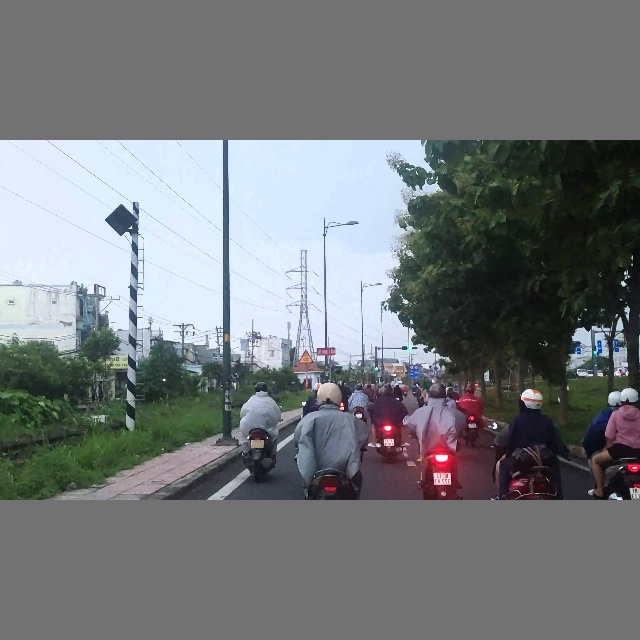W.210: (298, 349, 314, 364)
